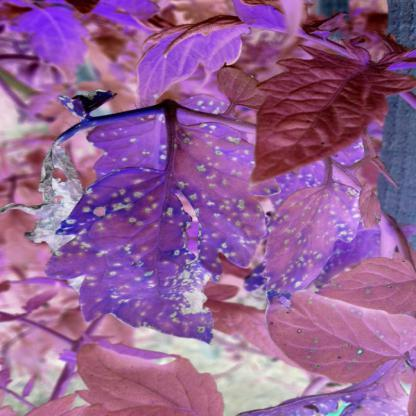Tomato Septoria leaf spot: (43, 106, 256, 348)
